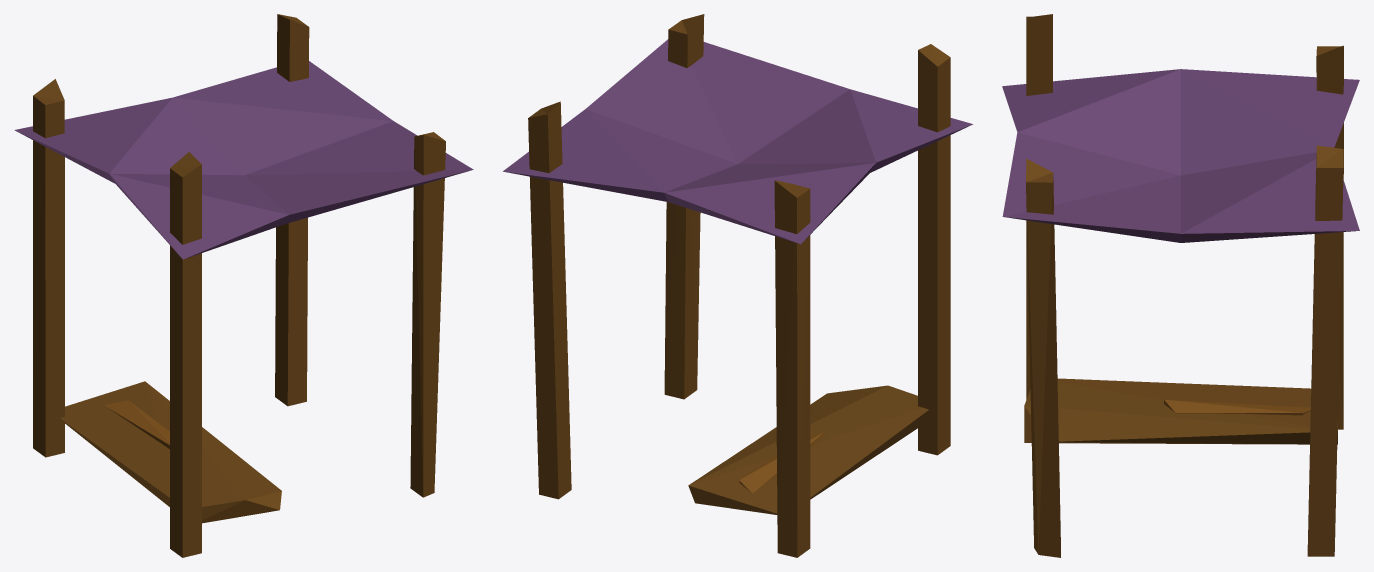
Rendered from tente.fbx.
The picture shows the model from 3 angles, left to right: view 1: azimuth 30°, elevation 25°; view 2: azimuth 150°, elevation 25°; view 3: azimuth 270°, elevation 25°; orthographic projection. The views are drawn at different scales.
Visible parts, largest first — view 1: Tent_01; view 2: Tent_01; view 3: Tent_01.
Boxes of the visible parts, x1,y1,x2,y2 form: Tent_01: [14, 14, 473, 557]; Tent_01: [503, 14, 972, 557]; Tent_01: [1002, 14, 1359, 557].
Bounding box in the file's own units: 369 × 473 × 366.
